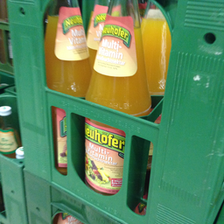juice: (86, 2, 152, 194), (45, 1, 89, 176)
